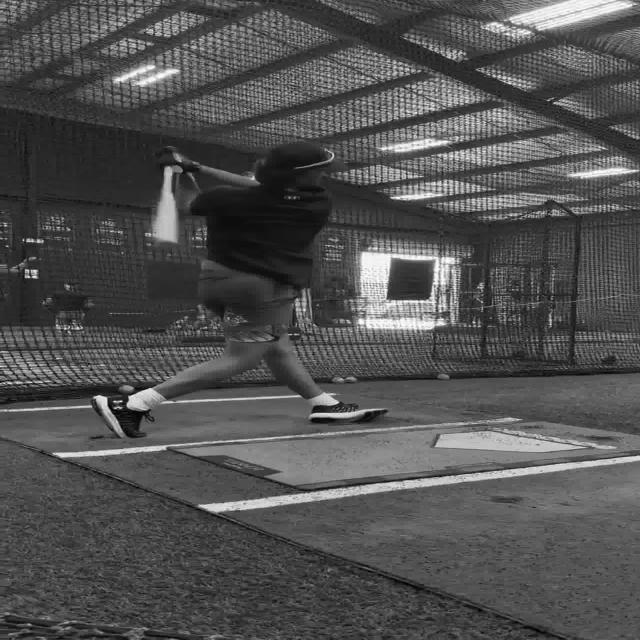base: (436, 429, 592, 453)
baseball: (117, 384, 135, 394), (344, 376, 357, 383), (330, 377, 344, 383), (436, 374, 449, 380)
baseball_glove: (153, 145, 201, 174)
bat: (158, 166, 182, 250)
shoe: (90, 393, 152, 438), (306, 401, 388, 424)
